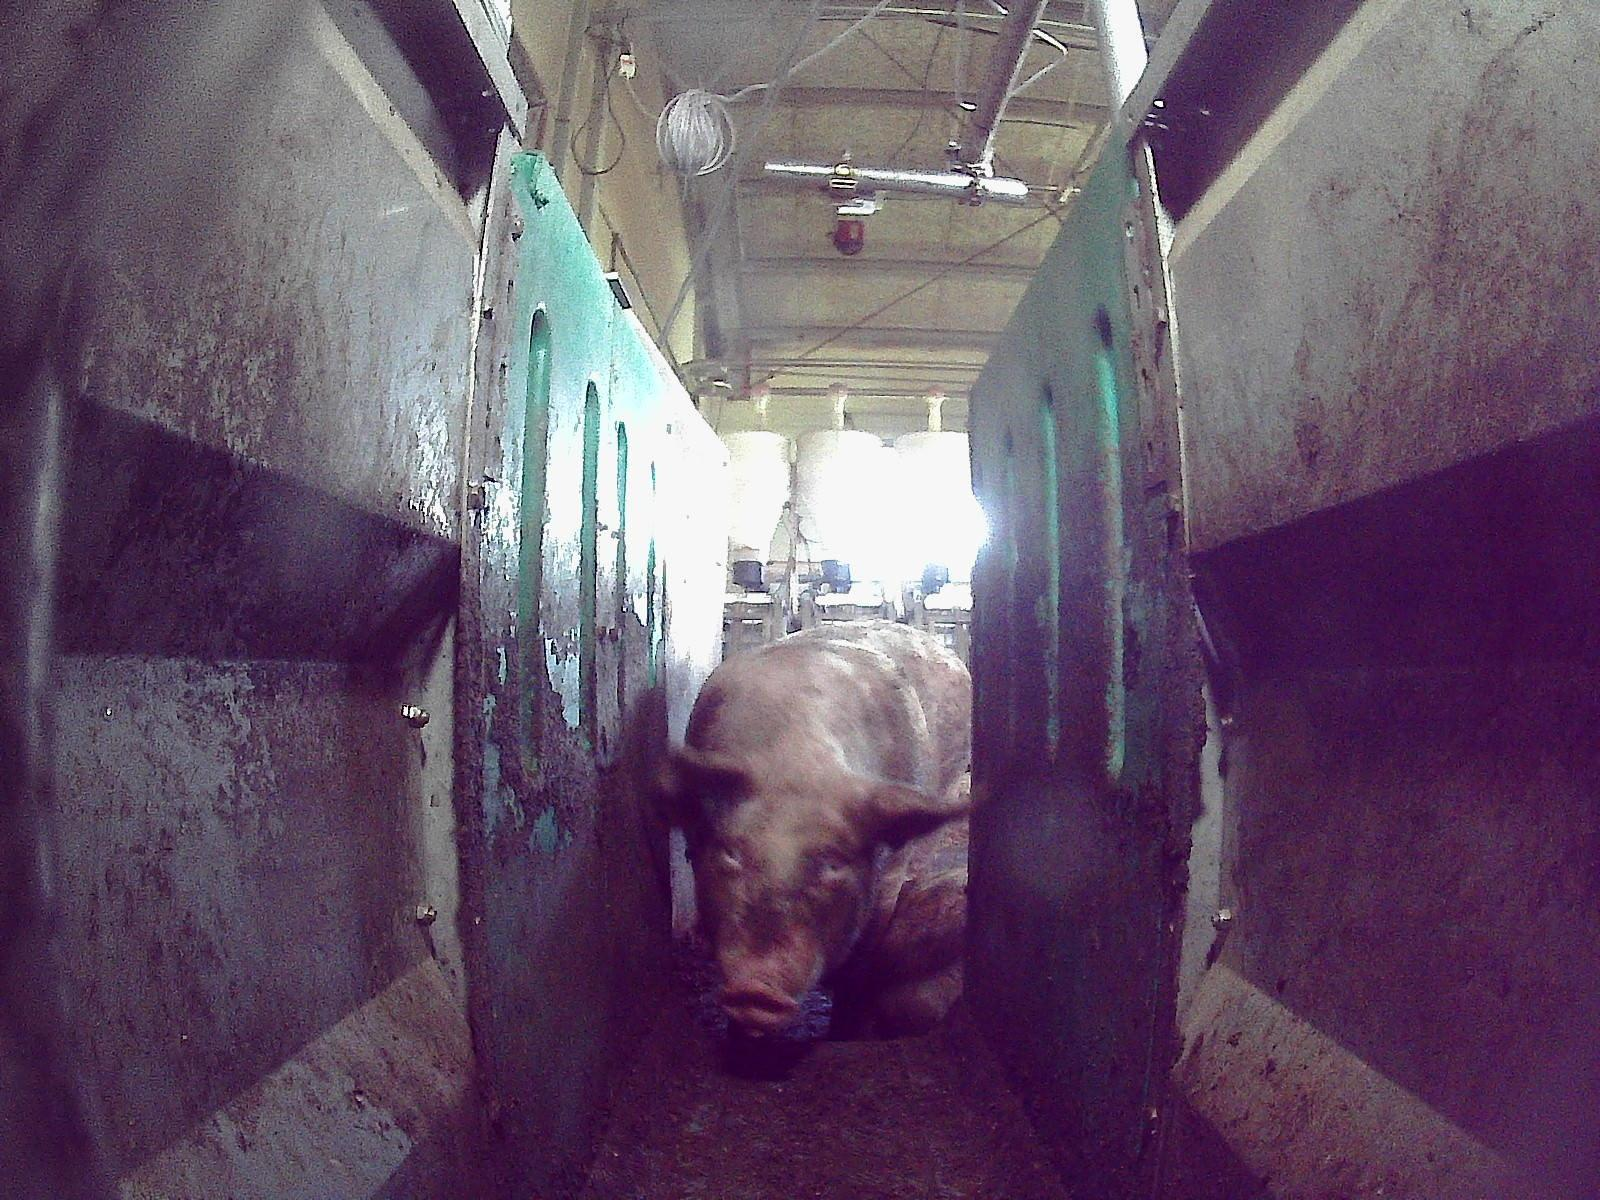Face: (691, 765, 875, 1037)
